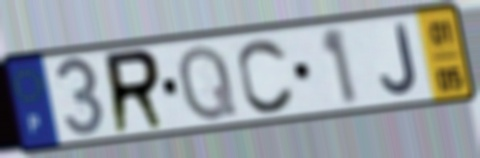1: (319, 25, 361, 109)
3: (53, 52, 109, 143)
C: (236, 35, 298, 116)
J: (378, 20, 421, 98)
Q: (175, 41, 241, 125)
R: (102, 46, 169, 139)
